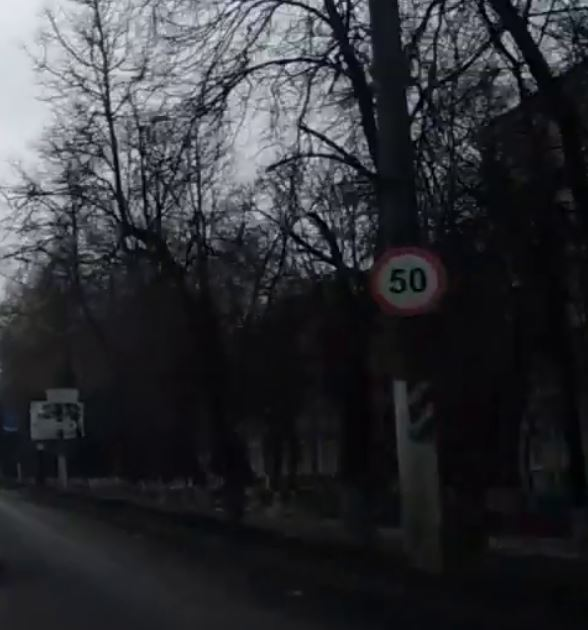50 Km Hiz Siniri: (374, 241, 449, 316)
